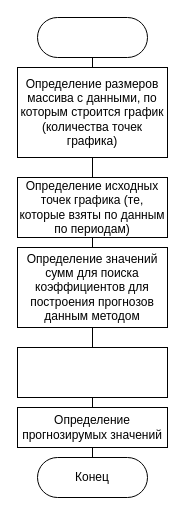
This 185x515 diagram has some shape labels left out. Each missing label, with the centre of its shape:
Начало: (92,37)
Определение коэффициентов для построения прогнозов: (92,372)
